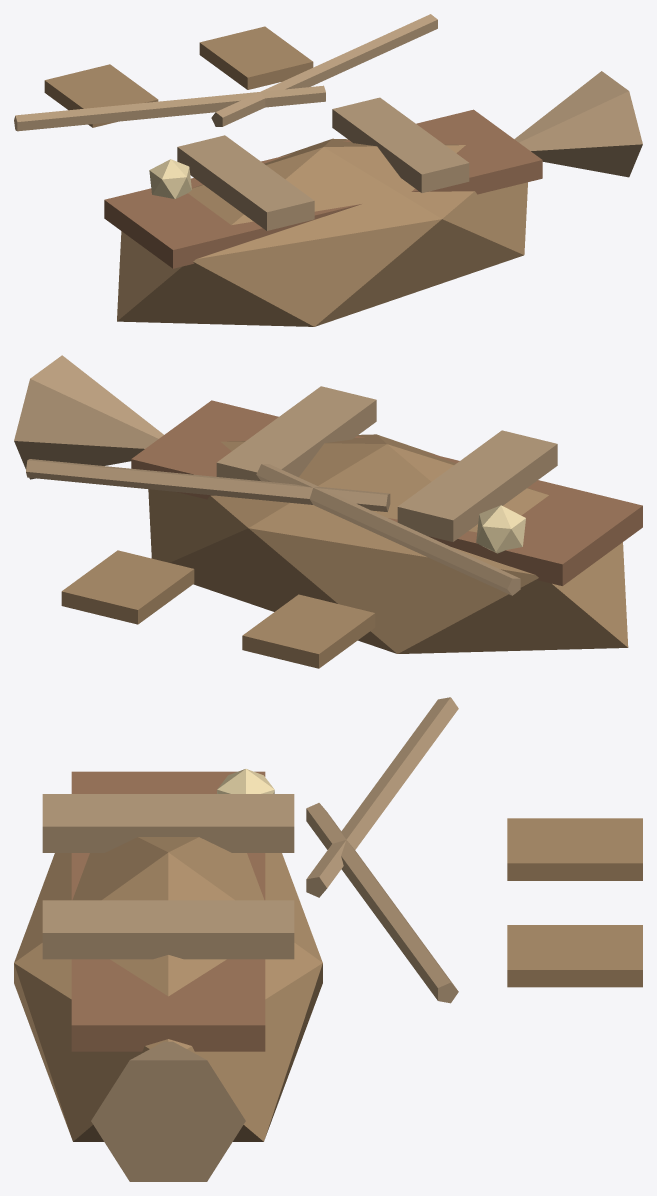
File: rowboat.glb
The picture shows the model from 3 angles, top to bottom: view 1: azimuth 30°, elevation 25°; view 2: azimuth 150°, elevation 25°; view 3: azimuth 270°, elevation 25°; orthographic projection. The views are drawn at different scales.
Visible parts, largest first — view 1: hull, inside, prow, seat_0, seat_1, oar_0, blade_1.001, oar_1, blade_0.001, rope.002; view 2: hull, inside, prow, seat_0, seat_1, oar_1, blade_0.001, blade_1.001, oar_0, rope.002; view 3: hull, inside, seat_1, prow, seat_0, blade_0.001, blade_1.001, oar_0, oar_1, rope.002.
Boxes of the visible parts, x1,y1,x2,y2 form: hull: (117, 138, 527, 326); inside: (104, 109, 542, 268); prow: (514, 71, 642, 177); seat_0: (177, 135, 314, 230); seat_1: (332, 97, 469, 192); oar_0: (14, 85, 325, 131); blade_1.001: (199, 26, 313, 89); oar_1: (211, 14, 437, 126); blade_0.001: (44, 64, 158, 127); rope.002: (149, 159, 191, 198); hull: (148, 434, 628, 653); inside: (131, 400, 642, 585); prow: (14, 355, 163, 479); seat_0: (397, 430, 557, 541); seat_1: (216, 386, 376, 480); oar_1: (26, 459, 390, 511); blade_0.001: (242, 594, 375, 668); blade_1.001: (61, 550, 194, 624); oar_0: (256, 464, 520, 595); rope.002: (476, 505, 525, 553); hull: (14, 837, 322, 1141); inside: (71, 771, 265, 1051); seat_1: (42, 900, 294, 959); prow: (91, 1041, 245, 1181); seat_0: (42, 794, 294, 852); blade_0.001: (507, 818, 642, 880); blade_1.001: (507, 925, 642, 987); oar_0: (306, 697, 458, 897); oar_1: (306, 803, 458, 1003); rope.002: (217, 769, 274, 793).
Bounding box in the file's own units: 1.69 × 0.5788 × 1.3.
